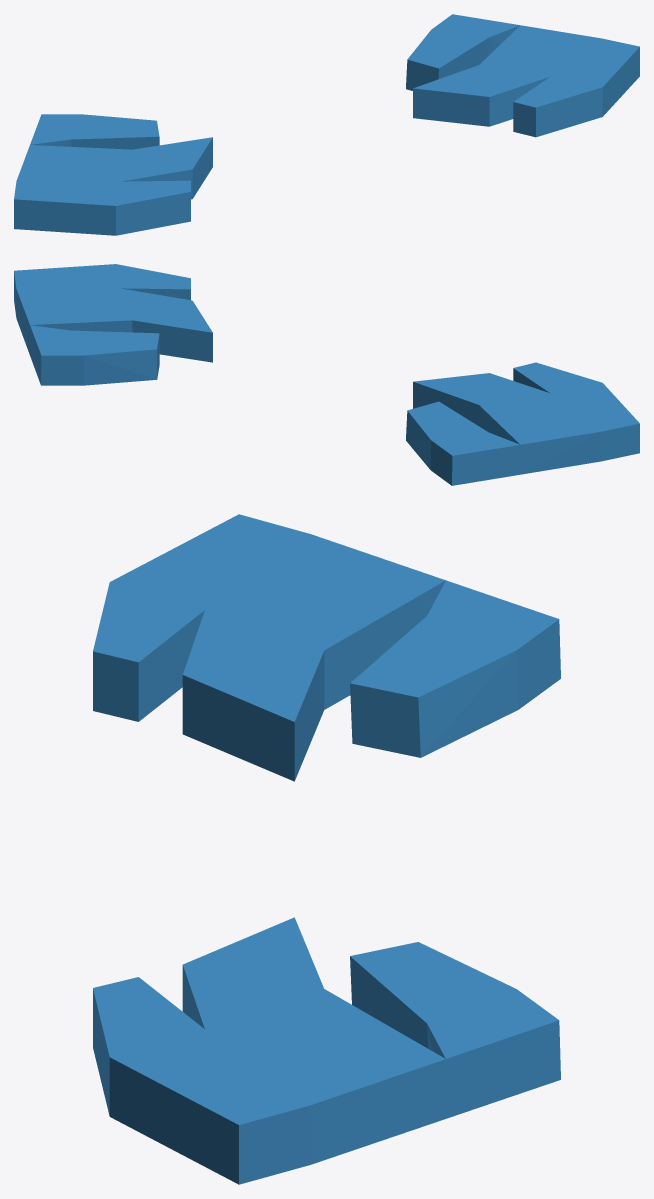
The model's file is station_hand.fbx.
The picture shows the model from 3 angles, top to bottom: view 1: azimuth 30°, elevation 25°; view 2: azimuth 150°, elevation 25°; view 3: azimuth 270°, elevation 25°; orthographic projection. The views are drawn at different scales.
Parts seen in each view (by area): view 1: station_hand; view 2: station_hand; view 3: station_hand.
Part boxes in pixels (left/top/right/bottom): station_hand: left=14, top=14, right=639, bottom=235; station_hand: left=14, top=264, right=639, bottom=485; station_hand: left=93, top=514, right=560, bottom=1184.
Bounding box in the file's own units: 2.19 × 0.0996 × 0.709.
